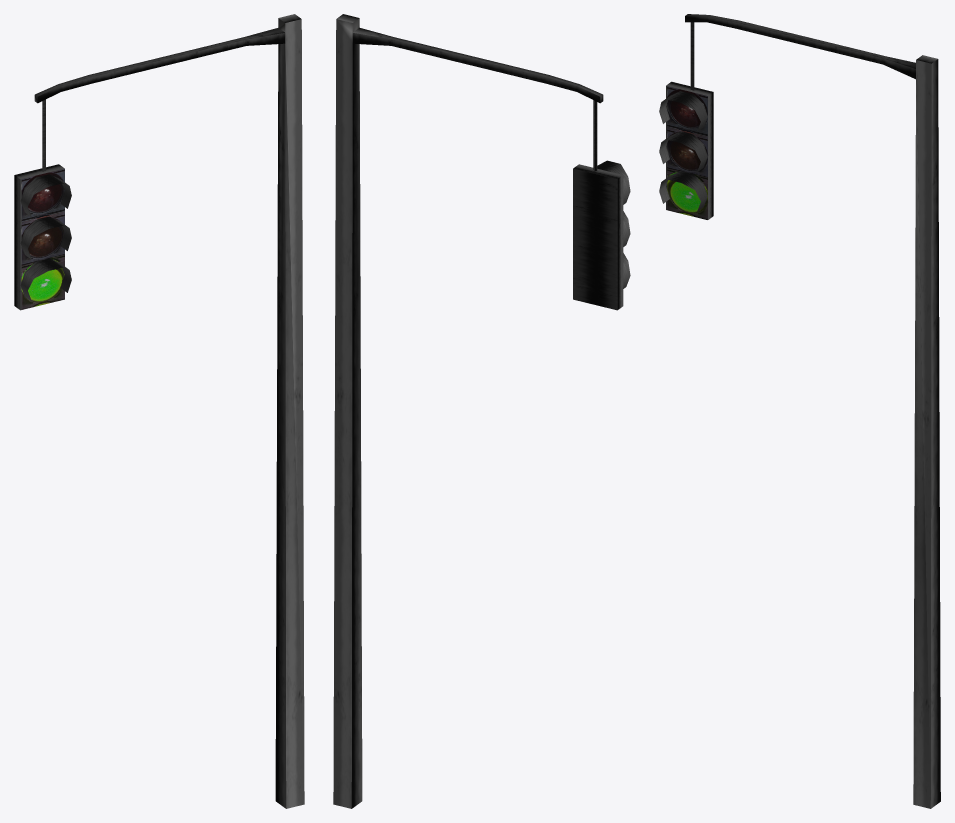
File: trafficSignalOverhand.obj
The picture shows the model from 3 angles, left to right: view 1: azimuth 30°, elevation 25°; view 2: azimuth 150°, elevation 25°; view 3: azimuth 330°, elevation 25°; orthographic projection. The views are drawn at different scales.
Visible parts, largest first — view 1: pasted__trafficSignalOverhand group; view 2: pasted__trafficSignalOverhand group; view 3: pasted__trafficSignalOverhand group.
Boxes of the visible parts, box(x1,y1,x2,y2) form: pasted__trafficSignalOverhand group: box(14, 14, 304, 808); pasted__trafficSignalOverhand group: box(333, 14, 630, 808); pasted__trafficSignalOverhand group: box(659, 14, 940, 808).
Bounding box in the file's own units: 1.77 × 4.7 × 0.2279.
Materials: 1 (1 with a texture image).
